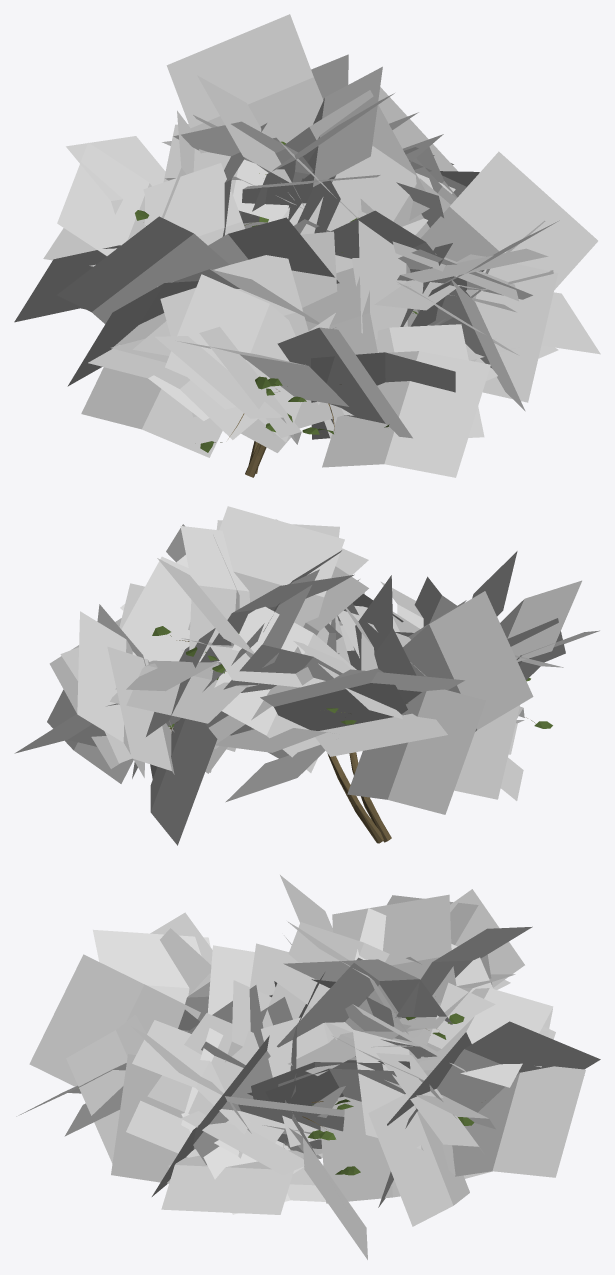
The model's file is Lentisque_Incline_LOD2.fbx.
3 views of the same model, one above another, from view 1: azimuth 30°, elevation 25°; view 2: azimuth 150°, elevation 25°; view 3: azimuth 270°, elevation 25° (orthographic). The views are drawn at different scales.
Parts seen in each view (by area): view 1: Lentisque_Incline_LOD2; view 2: Lentisque_Incline_LOD2; view 3: Lentisque_Incline_LOD2.
Part boxes in pixels (bbox=[...]): Lentisque_Incline_LOD2: bbox=[14, 14, 600, 477]; Lentisque_Incline_LOD2: bbox=[14, 506, 599, 845]; Lentisque_Incline_LOD2: bbox=[16, 875, 600, 1259].
Bounding box in the file's own units: 334 × 233 × 385.
